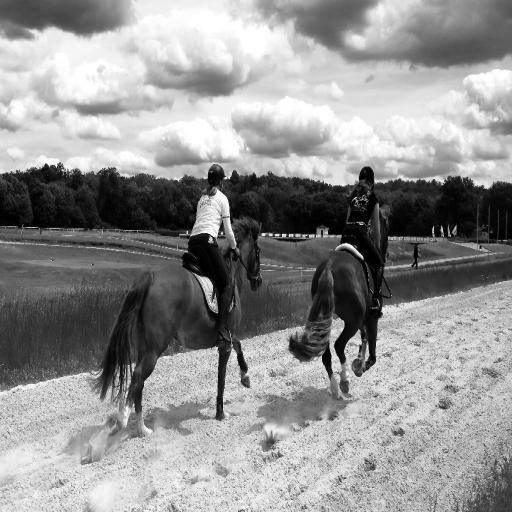horse: (86, 214, 264, 440), (286, 210, 390, 402)
